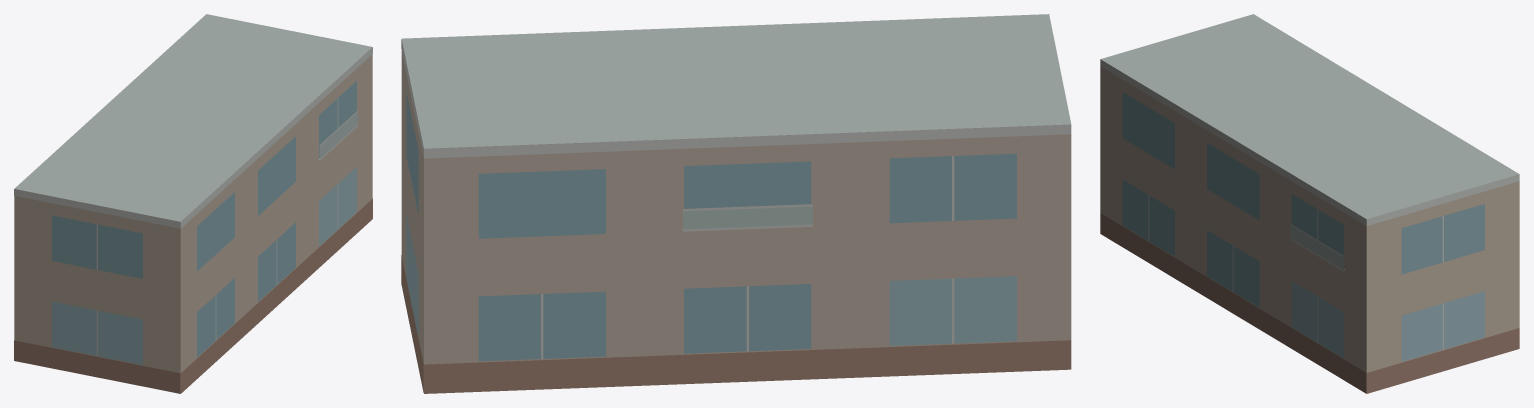
The model's file is survey-upis-32959046.glb.
The picture shows the model from 3 angles, left to right: view 1: azimuth 30°, elevation 25°; view 2: azimuth 150°, elevation 25°; view 3: azimuth 270°, elevation 25°; orthographic projection. The views are drawn at different scales.
Parts seen in each view (by area): view 1: survey-upis-32959046.tmp; view 2: survey-upis-32959046.tmp; view 3: survey-upis-32959046.tmp.
Boxes of the visible parts, x1=… form: survey-upis-32959046.tmp: x1=14, y1=14, x2=372, y2=393; survey-upis-32959046.tmp: x1=401, y1=14, x2=1071, y2=393; survey-upis-32959046.tmp: x1=1100, y1=14, x2=1519, y2=393.
Bounding box in the file's own units: 15.39 × 6.1 × 13.29.
